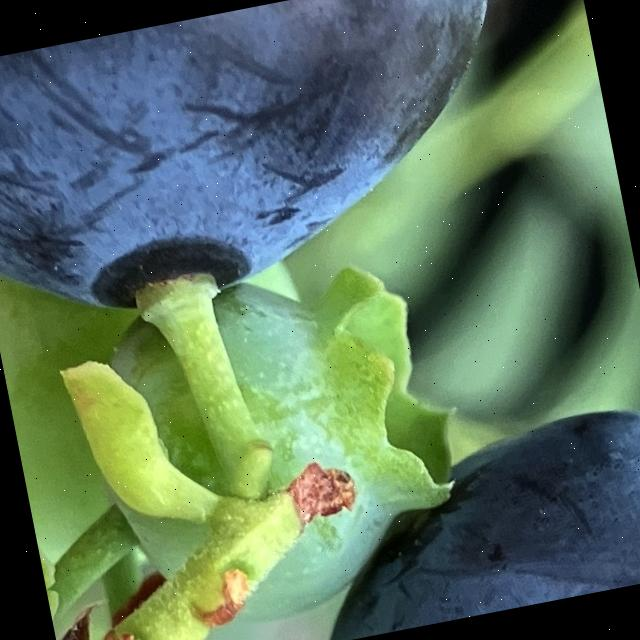Blueberries: (0, 0, 570, 350)
